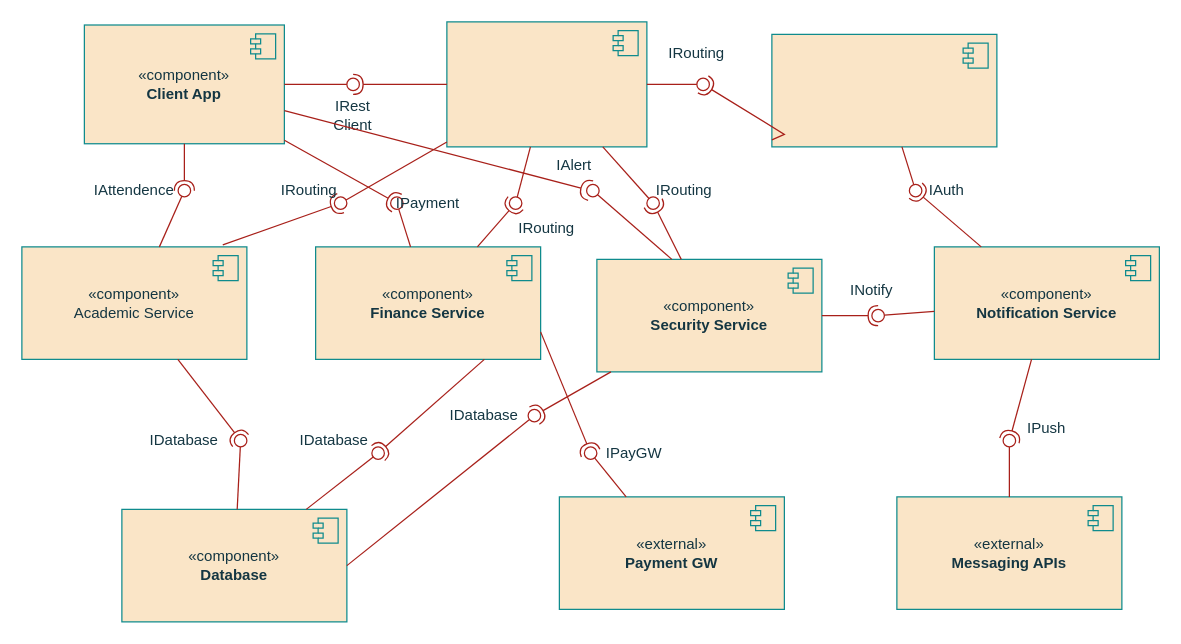
Some shapes in this 1181 by 644 pixel diagram are drawn without their labels. Here are the shapes that lost their labels. From the top down, the box of each, then its label:
(446, 21, 647, 147): «component » API Gateway
(771, 33, 997, 147): «component» Auth Service
